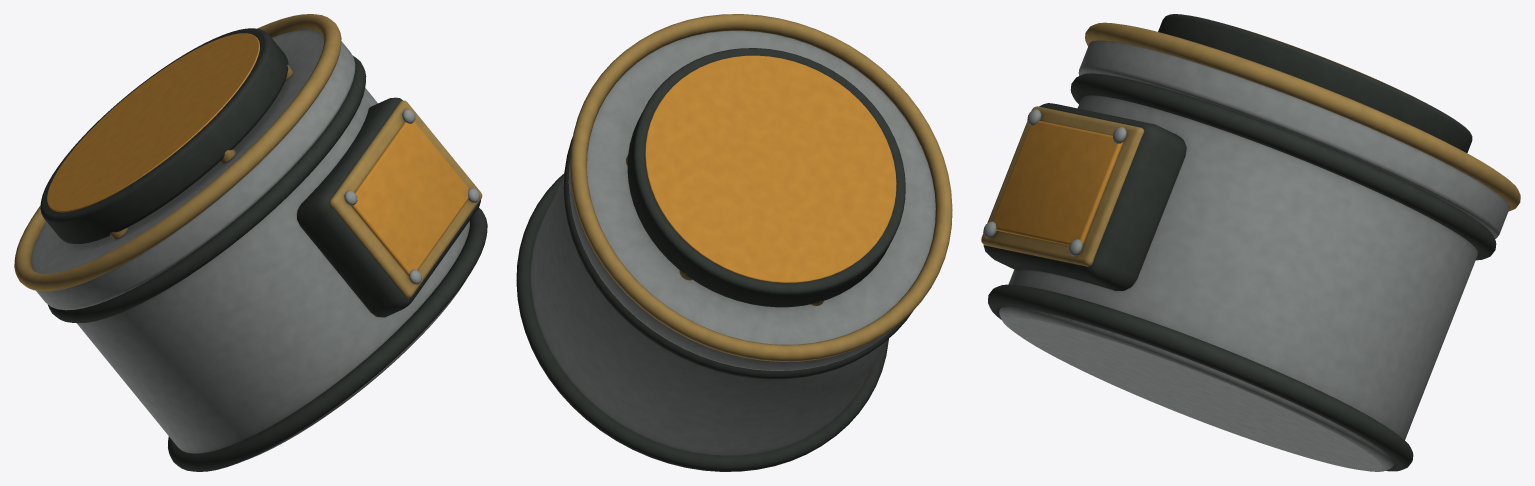
3 renders of one model, left to right at view 1: azimuth 30°, elevation 25°; view 2: azimuth 150°, elevation 25°; view 3: azimuth 270°, elevation 25°, orthographic. The views are drawn at different scales.
Visible parts, largest first — view 1: Closed sample vessel; view 2: Closed sample vessel; view 3: Closed sample vessel.
Part boxes in pixels (left/top/right/bottom): Closed sample vessel: left=14, top=14, right=487, bottom=471; Closed sample vessel: left=516, top=14, right=952, bottom=471; Closed sample vessel: left=981, top=14, right=1520, bottom=471.
Bounding box in the file's own units: 1.07 × 1.01 × 1.06.
Materials: 1 (1 with a texture image).
